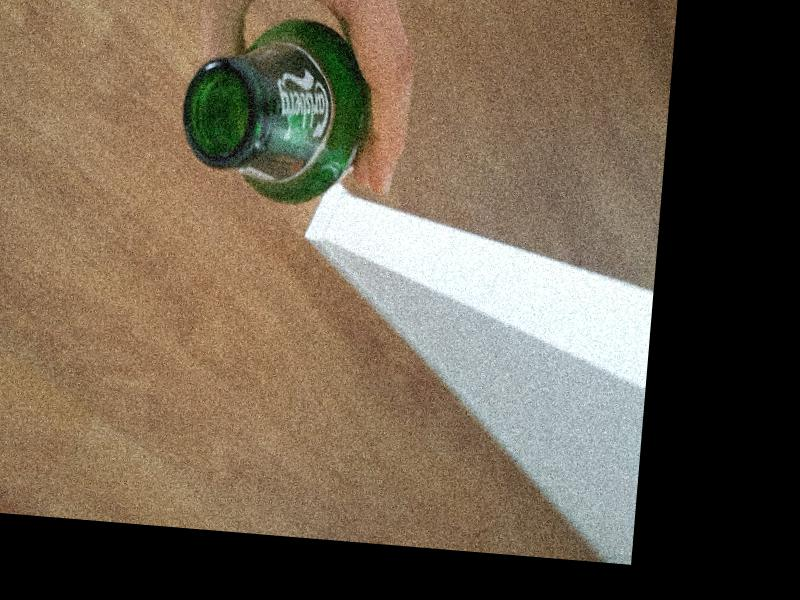Beer: (176, 6, 375, 210)
